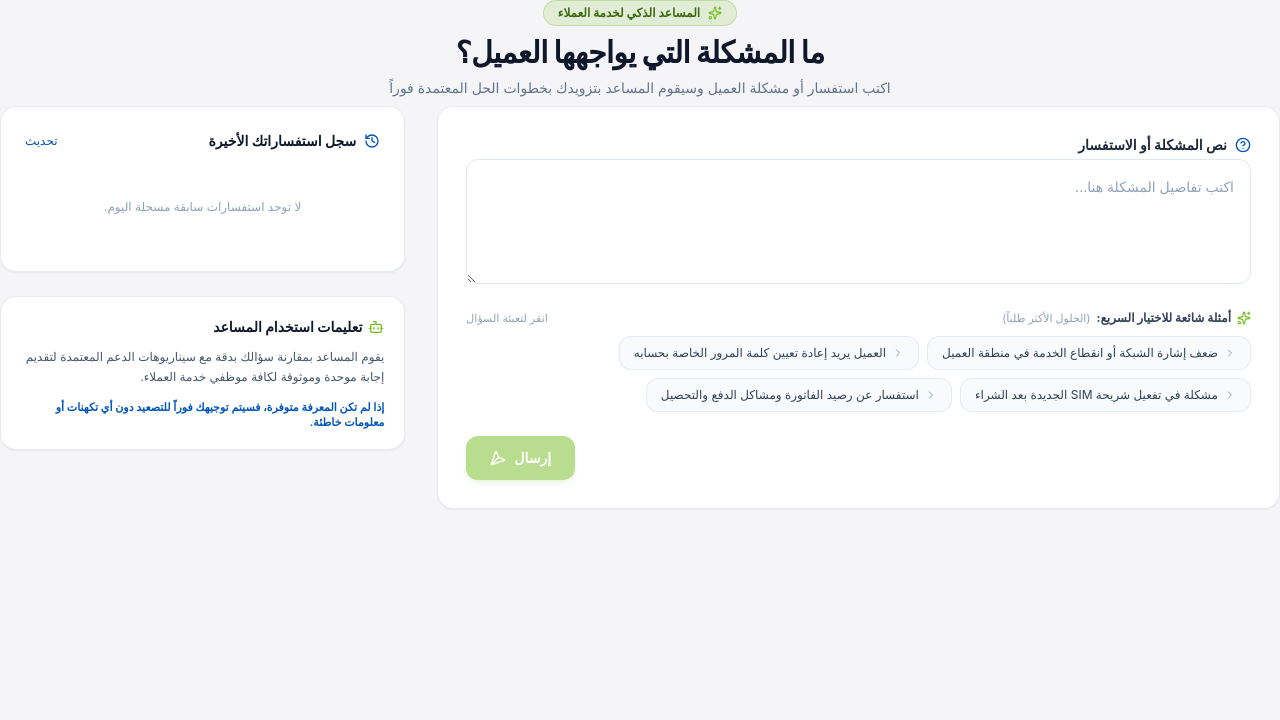
Test case: EmployeeSupportPage › disables submit button when problem input is empty
Expected: the button "إرسال" is disabled, x1=466 y1=436 x2=575 y2=480
Type "مشكلة في النظام" into the text box with placeholder "اكتب تفاصيل المشكلة هنا..." at (859,222), box x1=466 y1=159 x2=1251 y2=284
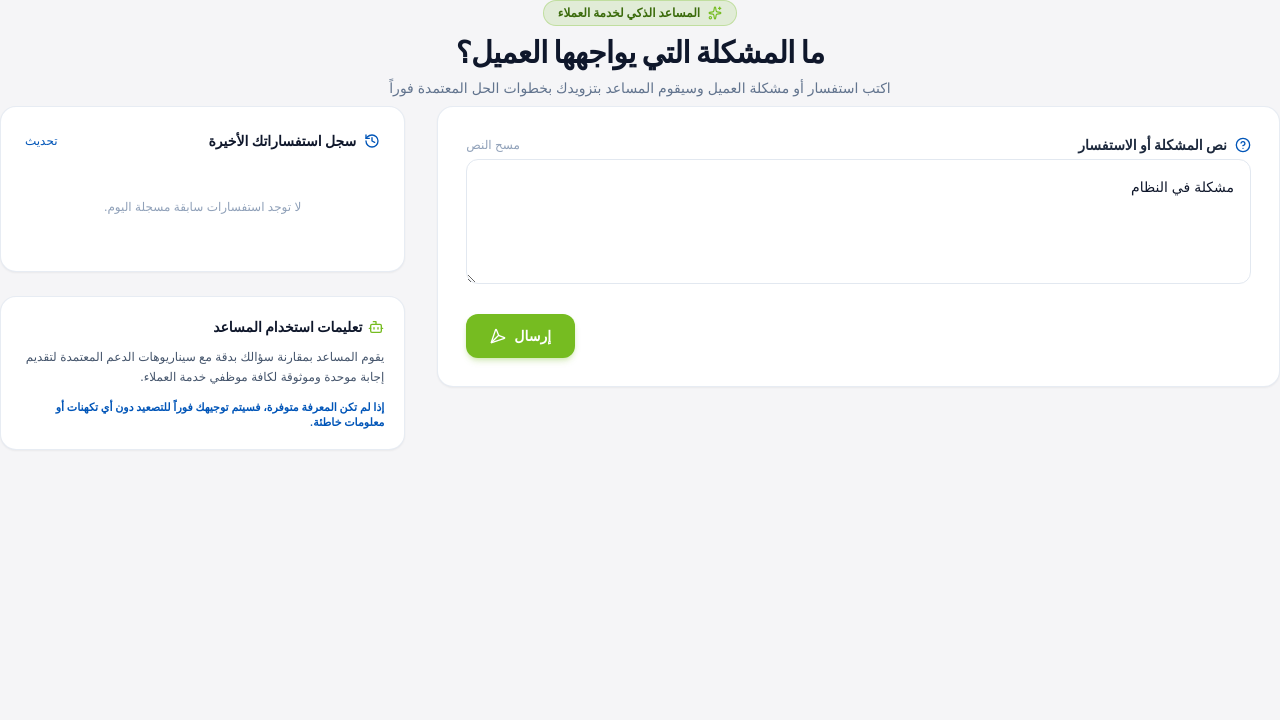
Result: the button "إرسال" is enabled at x1=466 y1=314 x2=575 y2=358
